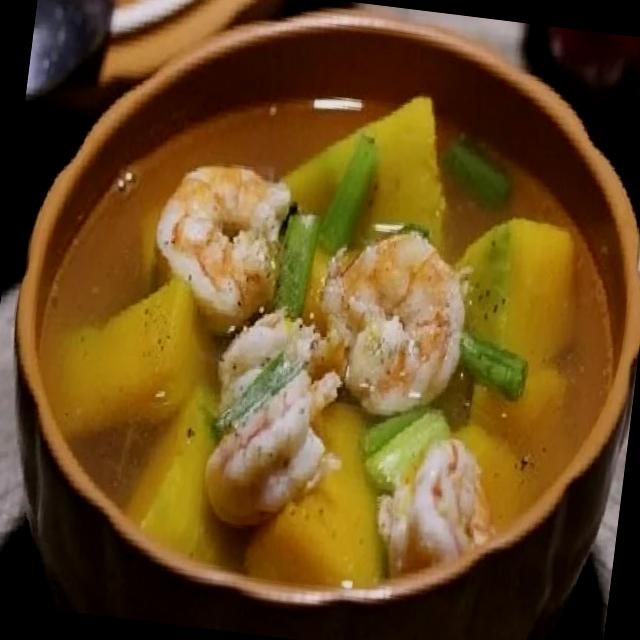canh bi do: (38, 96, 611, 585)
